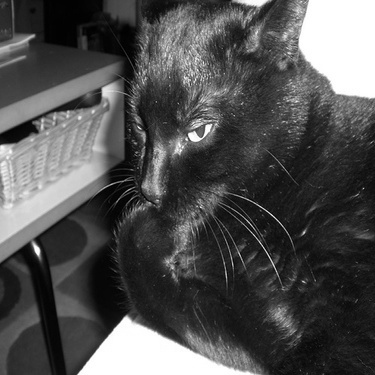cat: (116, 2, 368, 372)
